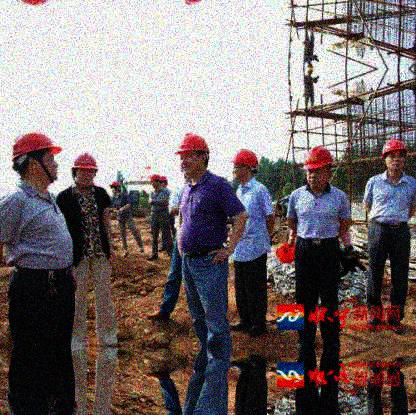helmet: (12, 131, 60, 184), (175, 134, 210, 179), (304, 147, 334, 194), (228, 148, 259, 183), (71, 152, 98, 190), (381, 139, 407, 174), (108, 179, 121, 196), (151, 174, 160, 191), (161, 175, 168, 190), (307, 61, 314, 71), (306, 67, 314, 75)
